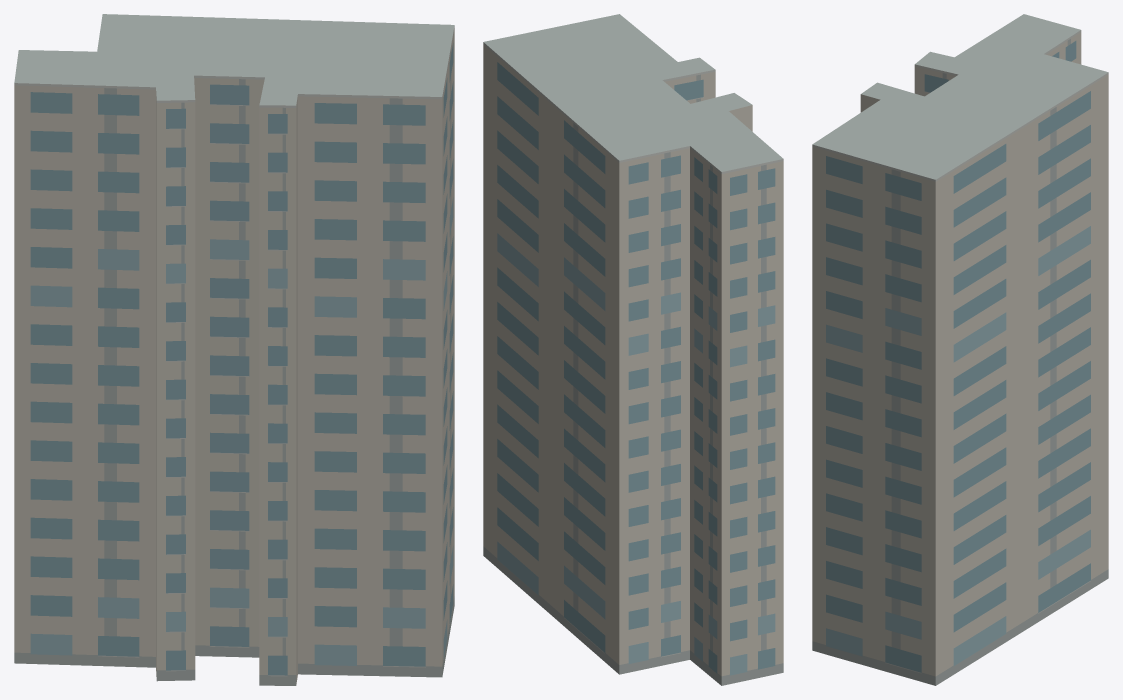
File: residential-f0b5722e-c76f-4b92-a6ae-bdf9d053f45e.glb
3 renders of one model, left to right at view 1: azimuth 30°, elevation 25°; view 2: azimuth 150°, elevation 25°; view 3: azimuth 270°, elevation 25°, orthographic. The views are drawn at different scales.
Parts seen in each view (by area): view 1: residential-f0b5722e-c76f-4b92-a6ae-bdf9d053f45e.tmp; view 2: residential-f0b5722e-c76f-4b92-a6ae-bdf9d053f45e.tmp; view 3: residential-f0b5722e-c76f-4b92-a6ae-bdf9d053f45e.tmp.
Boxes of the visible parts, box(x1,y1,x2,y2) form: residential-f0b5722e-c76f-4b92-a6ae-bdf9d053f45e.tmp: box(14, 14, 454, 685); residential-f0b5722e-c76f-4b92-a6ae-bdf9d053f45e.tmp: box(483, 14, 783, 685); residential-f0b5722e-c76f-4b92-a6ae-bdf9d053f45e.tmp: box(812, 14, 1108, 685).
Size of the model in its own units: 42.18 by 60 by 31.87.
